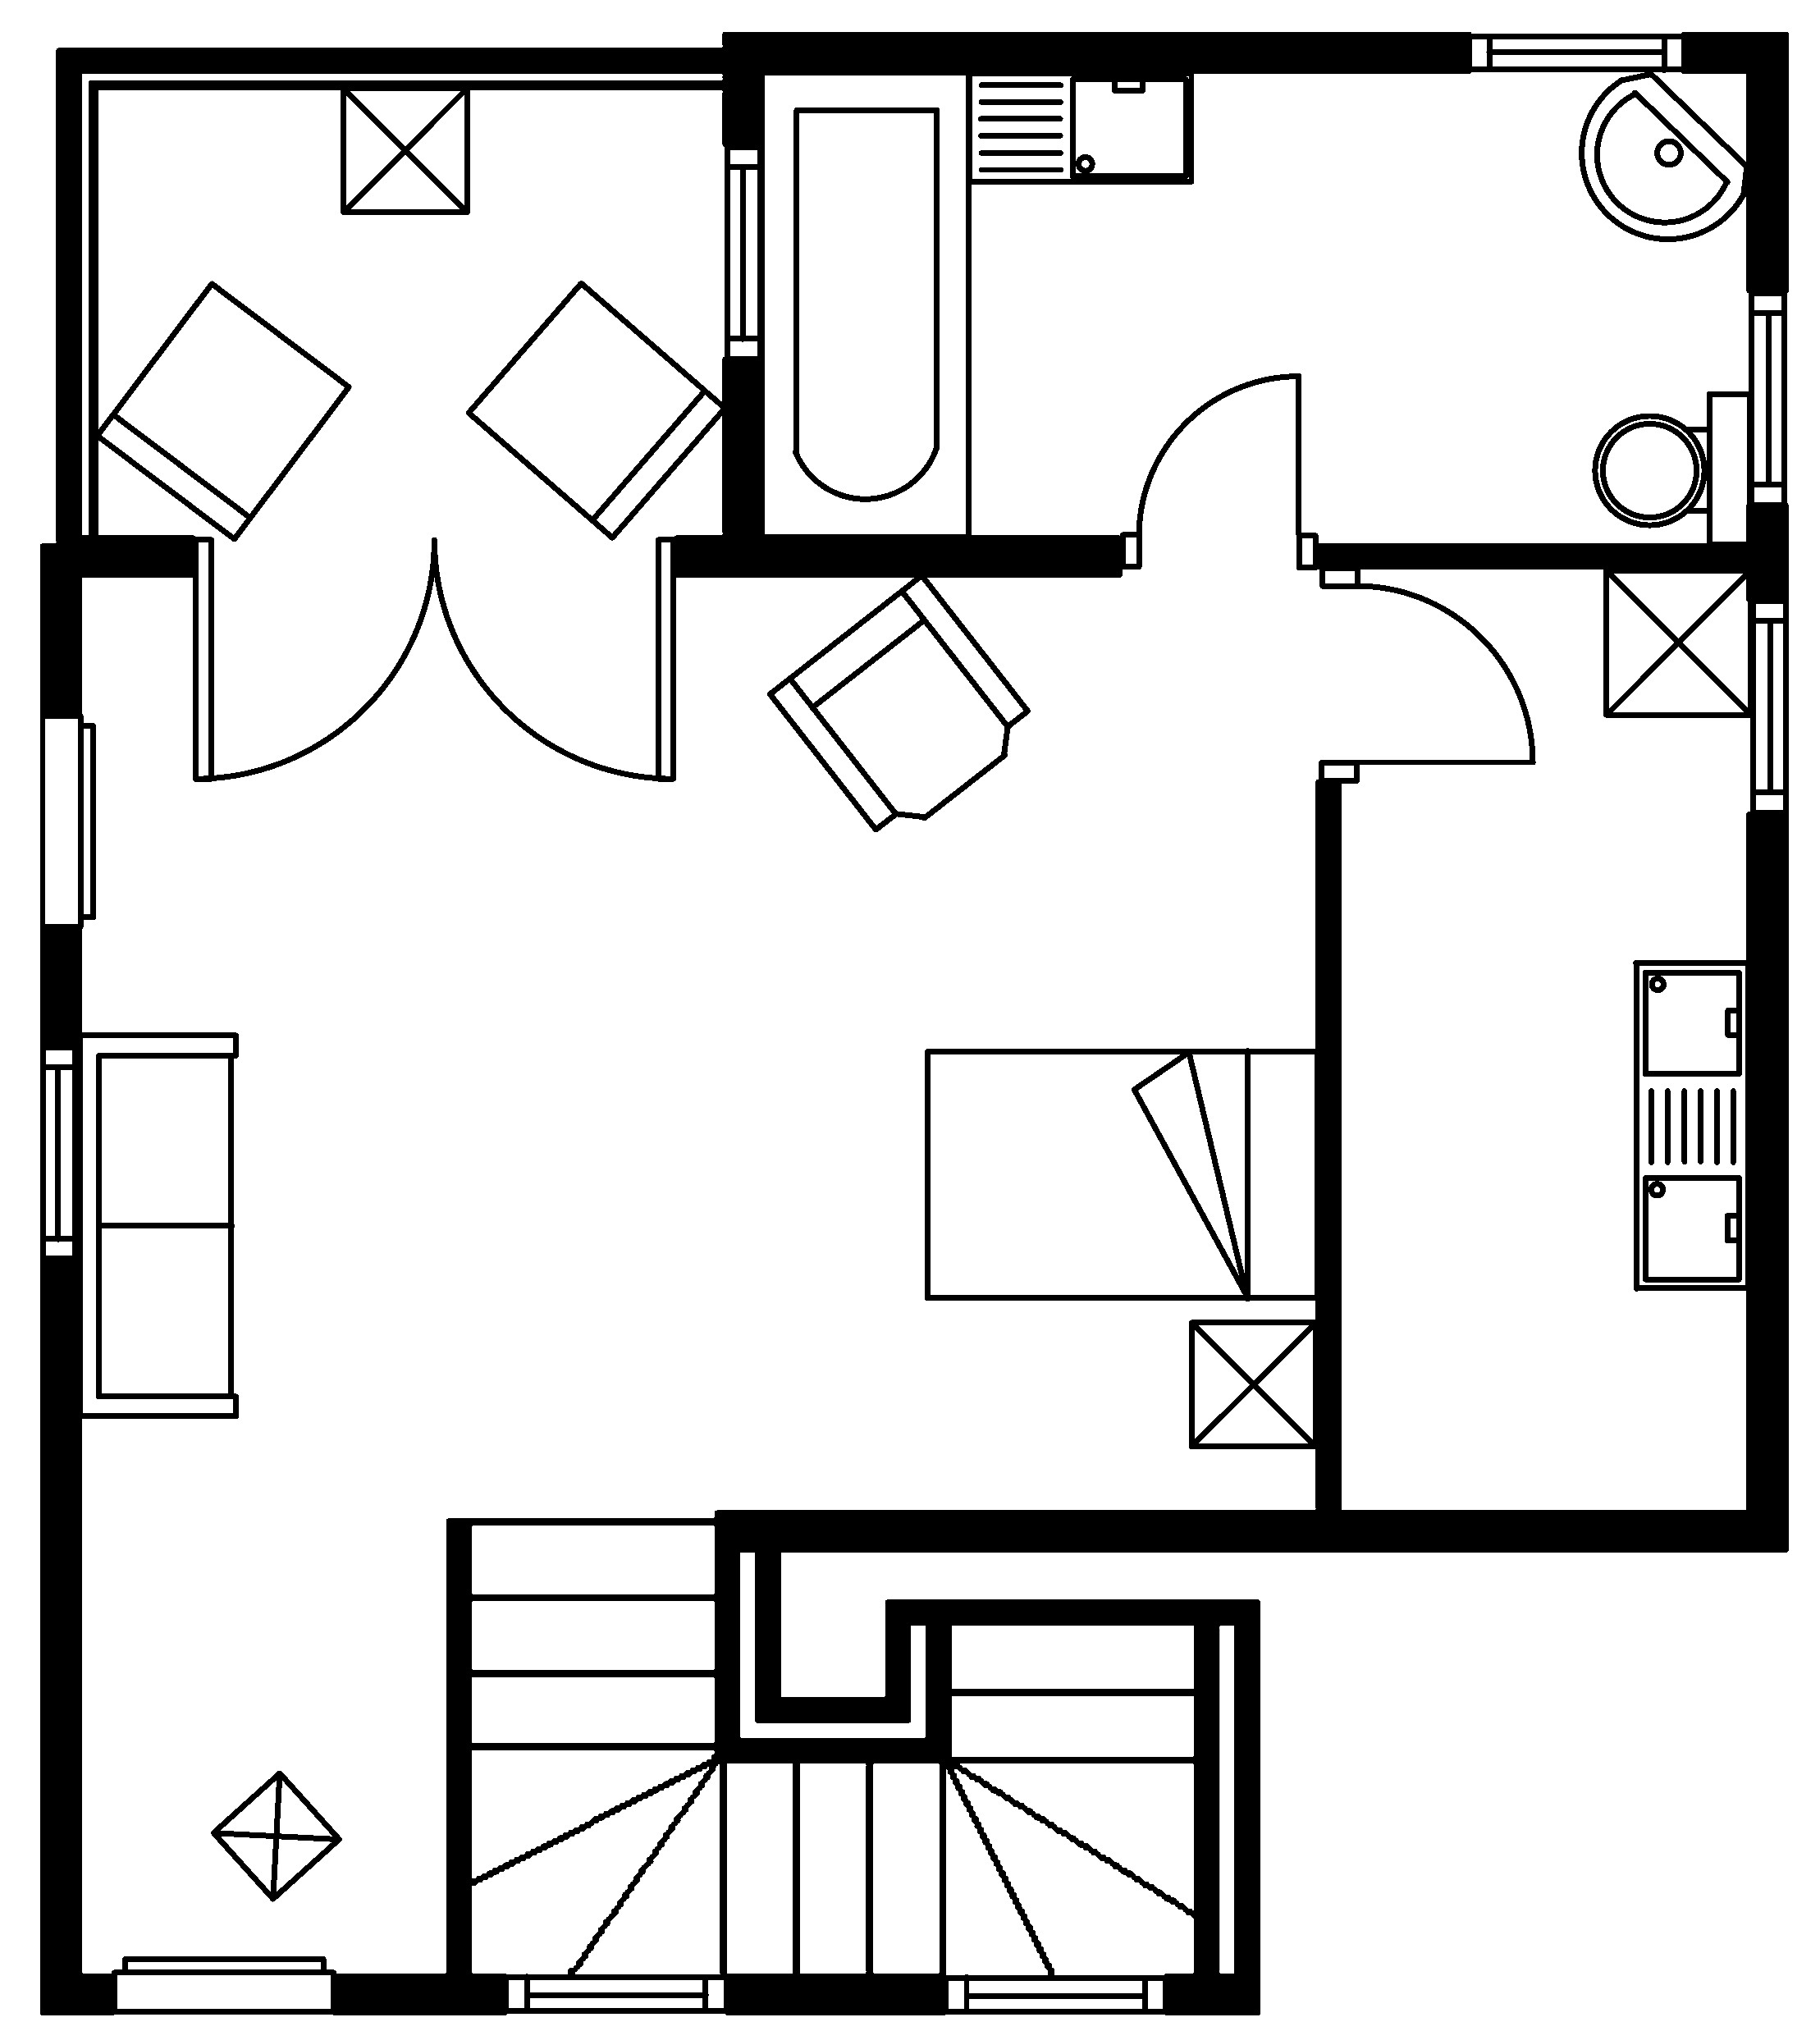armchair: (766, 571, 1031, 833)
bed: (922, 1047, 1321, 1302)
coffee_table: (1602, 566, 1753, 719), (209, 1769, 343, 1903), (1186, 1318, 1319, 1449), (339, 84, 471, 214)
large_sink: (1592, 388, 1753, 548)
large_sofa: (76, 1031, 239, 1420)
sink: (964, 69, 1195, 184)
small_sink: (1578, 70, 1750, 241)
small_sofa: (464, 279, 727, 541), (93, 279, 351, 543)
tub: (757, 69, 971, 539)
twin_sink: (1630, 958, 1751, 1291)
